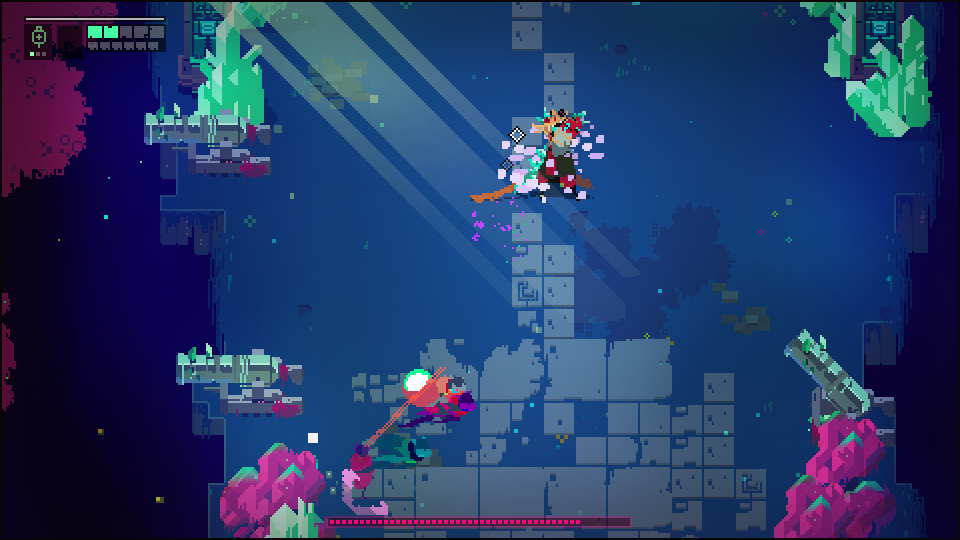hanged_man: (516, 104, 591, 212)
player: (404, 371, 468, 414), (403, 367, 432, 400)
